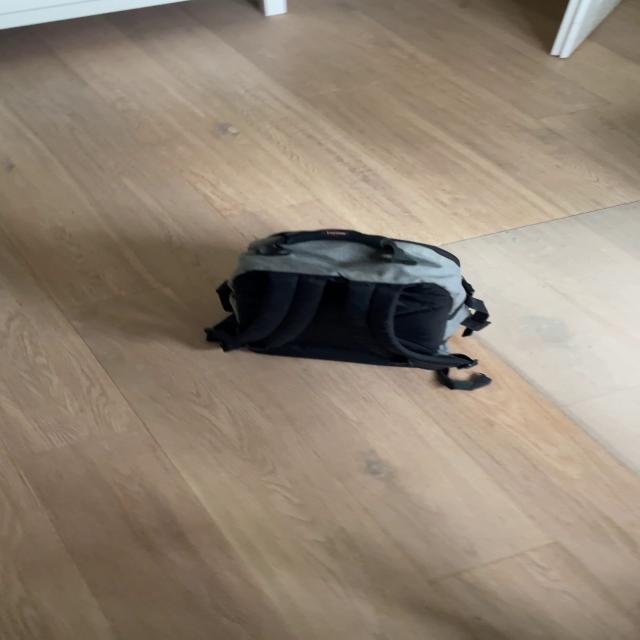backpack: (195, 222, 494, 385)
